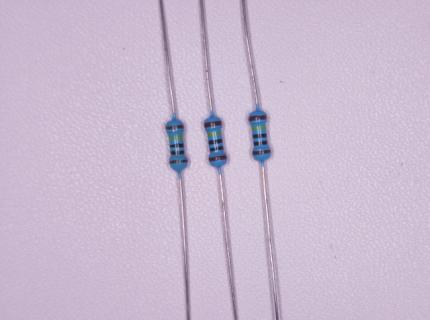Black band: (210, 146, 224, 152), (208, 139, 223, 144), (253, 141, 268, 146), (170, 143, 184, 148), (253, 134, 267, 139), (171, 150, 184, 155)
Brown band: (209, 155, 227, 162), (204, 121, 222, 128), (248, 115, 267, 121), (252, 150, 271, 155), (169, 159, 188, 164), (165, 125, 184, 129)
Yellow band: (207, 131, 222, 137), (169, 135, 183, 140), (252, 125, 266, 130)
